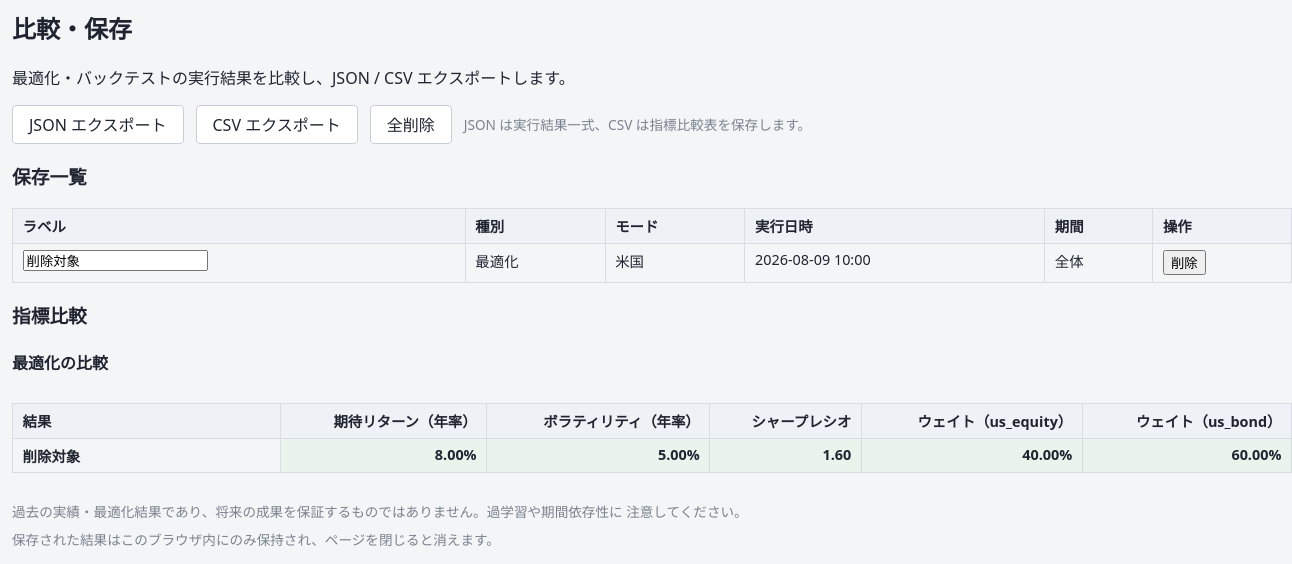
Test case: CompareScreen › 削除ボタンで結果が取り除かれる
Check: the field showing "削除対象" is shown, box x1=23 y1=250 x2=208 y2=271
What coordinates should you click on to do the following:
click the button "削除"
I would click on:
 (1184, 263)
Its box is x1=1163 y1=250 x2=1206 y2=275.
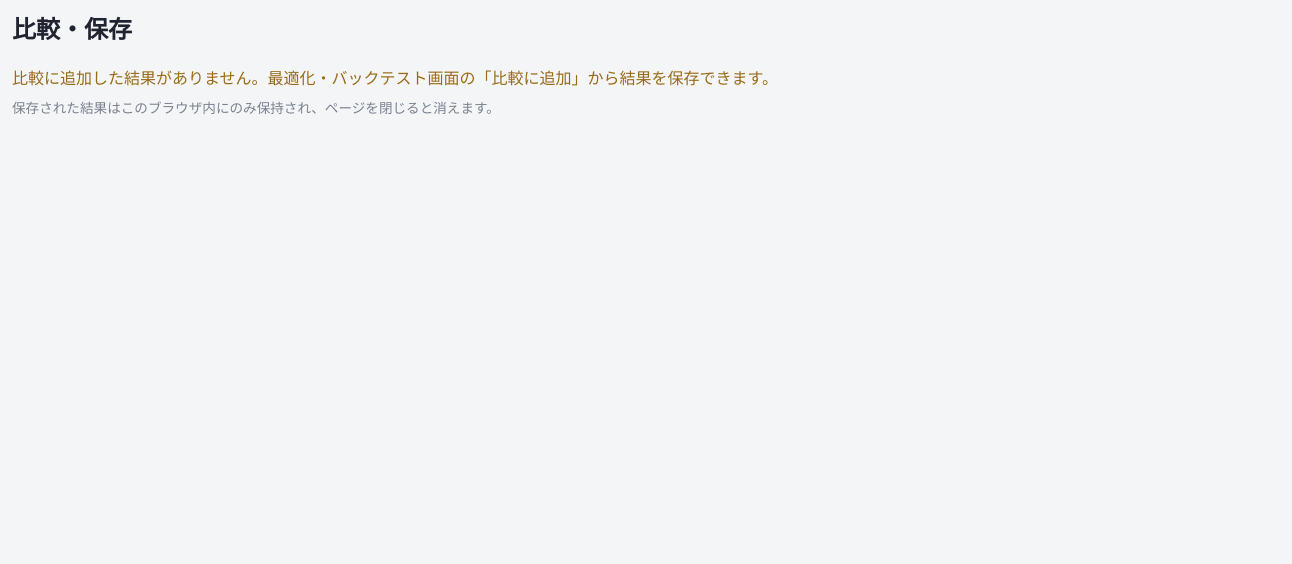
Check: the cell showing "削除対象" is gone
